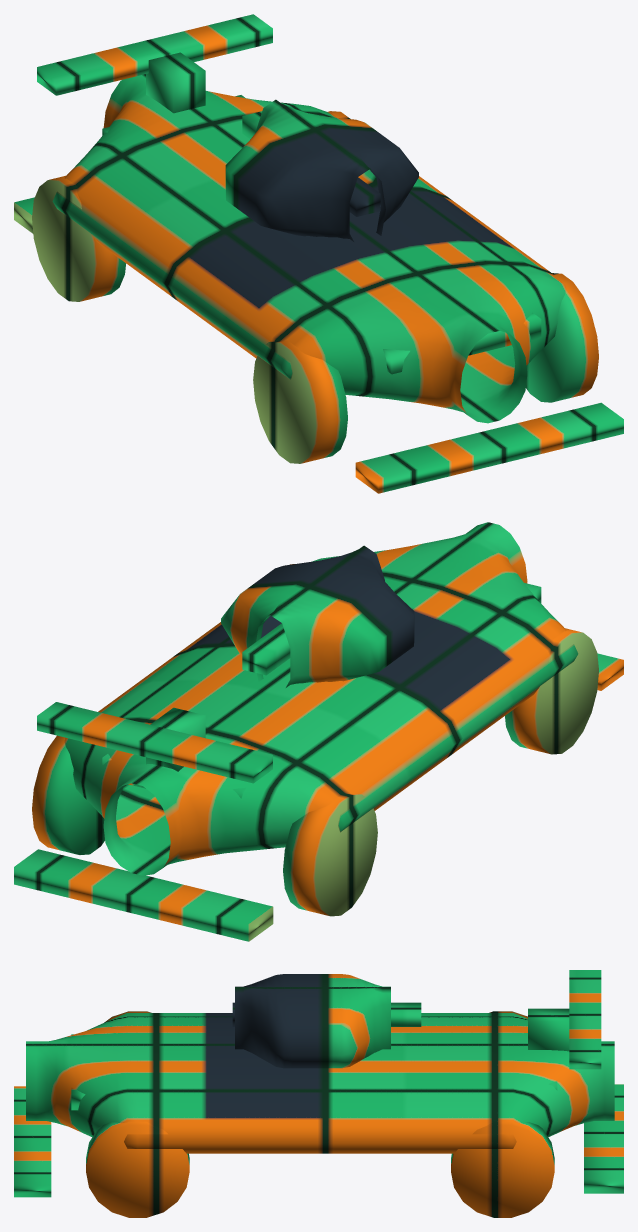
File: Rival_03_CompactPrototype.obj
3 views of the same model, one above another, from view 1: azimuth 30°, elevation 25°; view 2: azimuth 150°, elevation 25°; view 3: azimuth 270°, elevation 25° (orthographic). The views are drawn at different scales.
Visible parts, largest first — view 1: Rival_03_CompactPrototype_LOD0; view 2: Rival_03_CompactPrototype_LOD0; view 3: Rival_03_CompactPrototype_LOD0.
Boxes of the visible parts, left/top/right/bottom form: Rival_03_CompactPrototype_LOD0: left=14, top=14, right=623, bottom=493; Rival_03_CompactPrototype_LOD0: left=14, top=522, right=623, bottom=941; Rival_03_CompactPrototype_LOD0: left=14, top=970, right=623, bottom=1217.
Size of what is drawn, in the model's own units: 2.09 by 1.45 by 4.58.
Materials: 4 (4 with a texture image).
